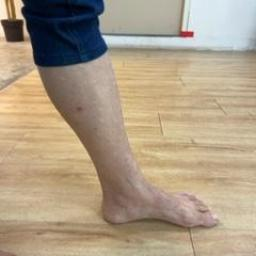Medial View -Left Foot-: (81, 153, 234, 243)
